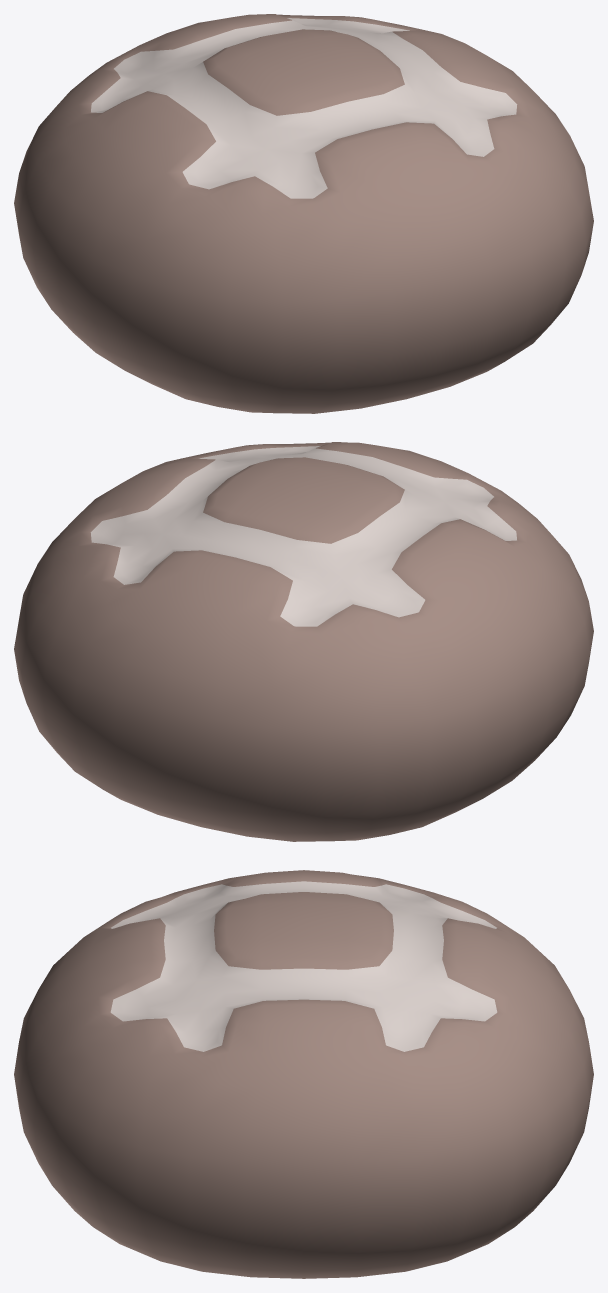
Rendered from Bread_3.fbx.
3 renders of one model, top to bottom at view 1: azimuth 30°, elevation 25°; view 2: azimuth 150°, elevation 25°; view 3: azimuth 270°, elevation 25°, orthographic. The views are drawn at different scales.
Parts seen in each view (by area): view 1: Bread_3; view 2: Bread_3; view 3: Bread_3.
Boxes of the visible parts, left/top/right/bottom form: Bread_3: left=14, top=14, right=593, bottom=413; Bread_3: left=14, top=442, right=593, bottom=841; Bread_3: left=14, top=870, right=593, bottom=1278.
Bounding box in the file's own units: 26.53 × 14.79 × 26.53.
